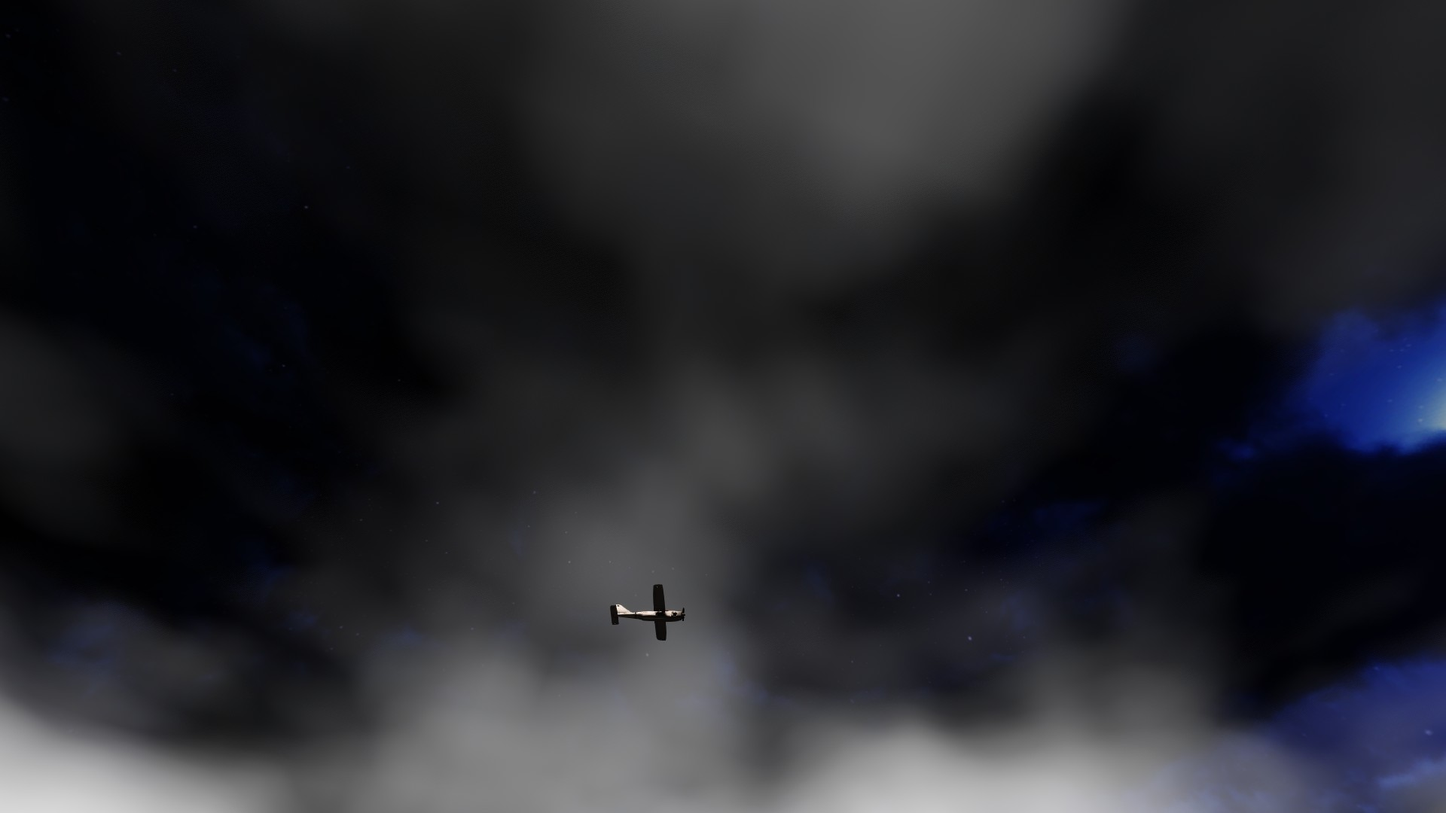drone_other: (610, 584, 685, 641)
